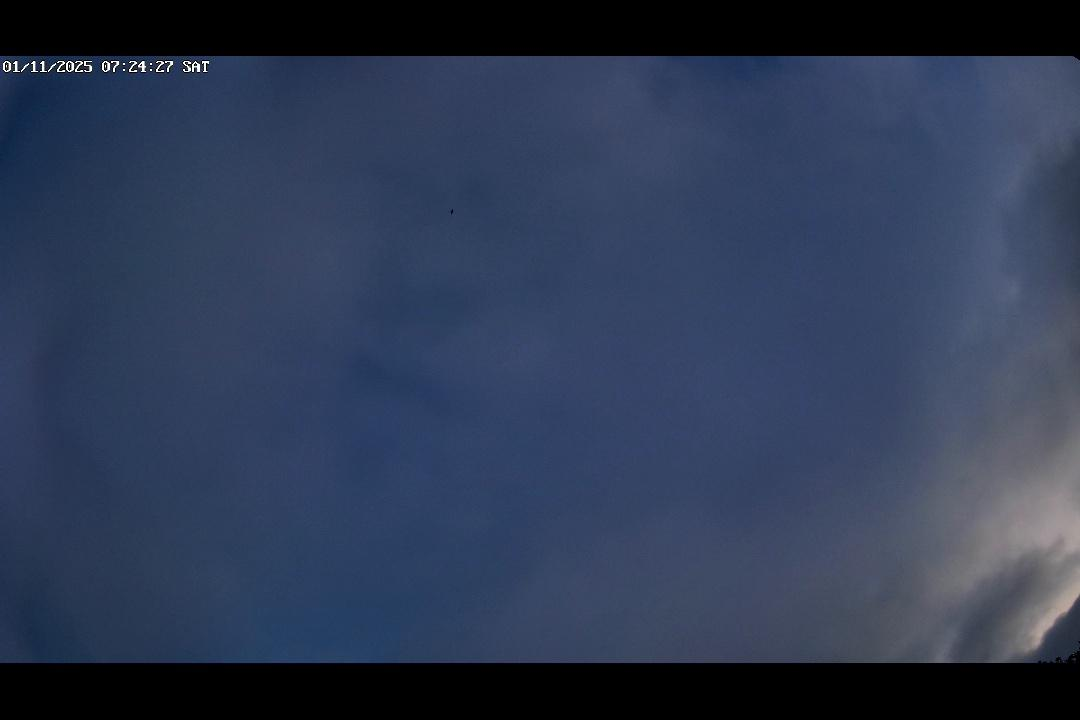WildLife: (439, 205, 464, 219)
